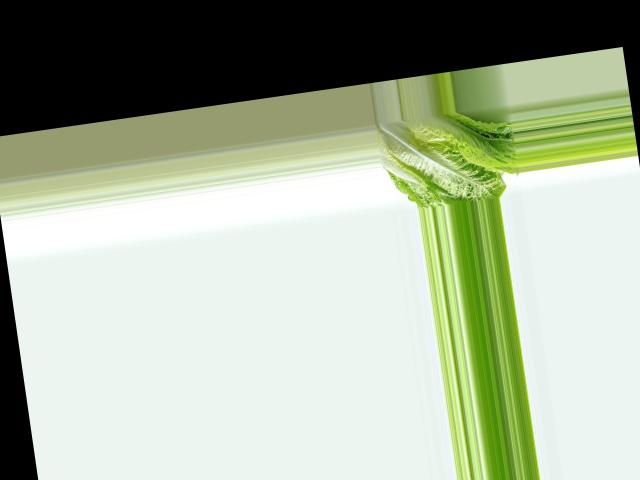lettuce: (375, 104, 523, 212)
